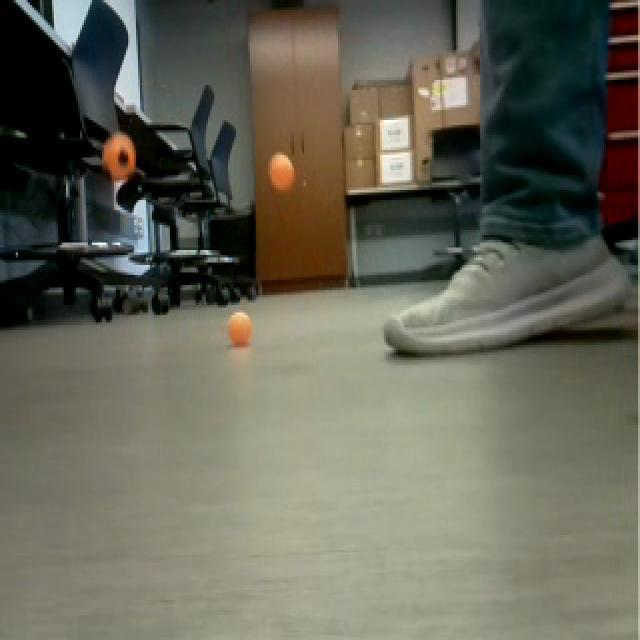oball: (266, 148, 300, 196), (224, 307, 254, 348)
